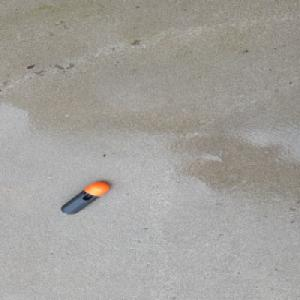PlasticPart: (60, 181, 110, 214)
